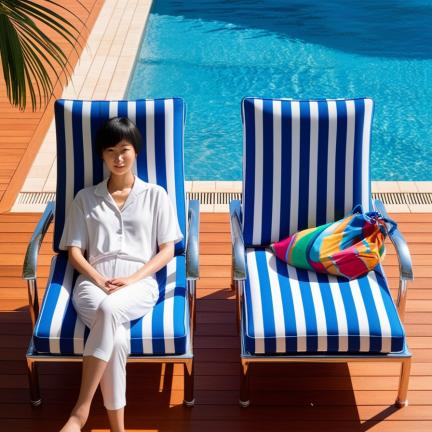guest on chair: (24, 98, 199, 432)
occupied chair: (230, 98, 413, 407)
